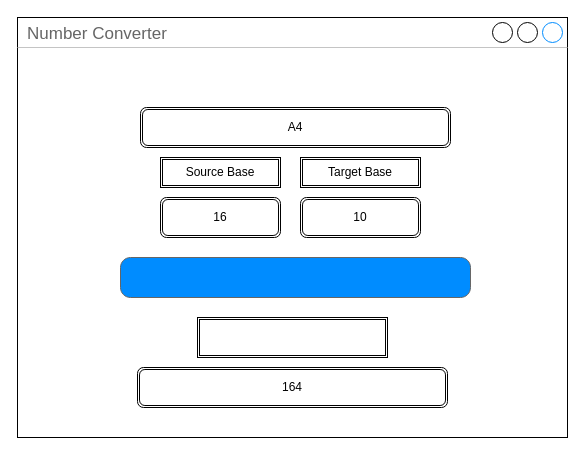
Some shapes in this 585 by 455 pixel diagram are drawn without their labels. Here are the shapes that lost their labels. From the top down, the centre of each, then its label:
point (295, 277): Convert From Base source to target base
point (292, 337): Resulted number with target base
